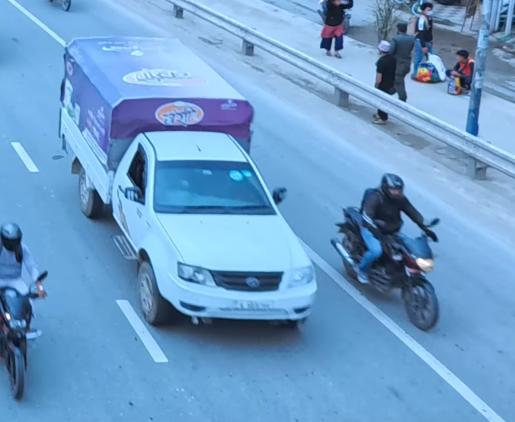bike: (328, 171, 451, 341), (0, 192, 44, 405)
transport_vehicle: (57, 29, 323, 333)
